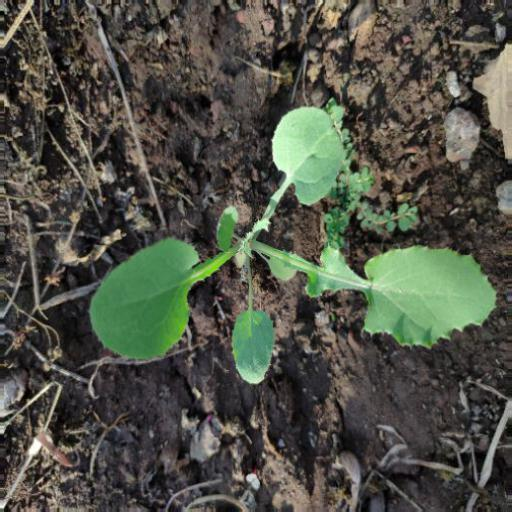weed: (71, 101, 500, 372)
